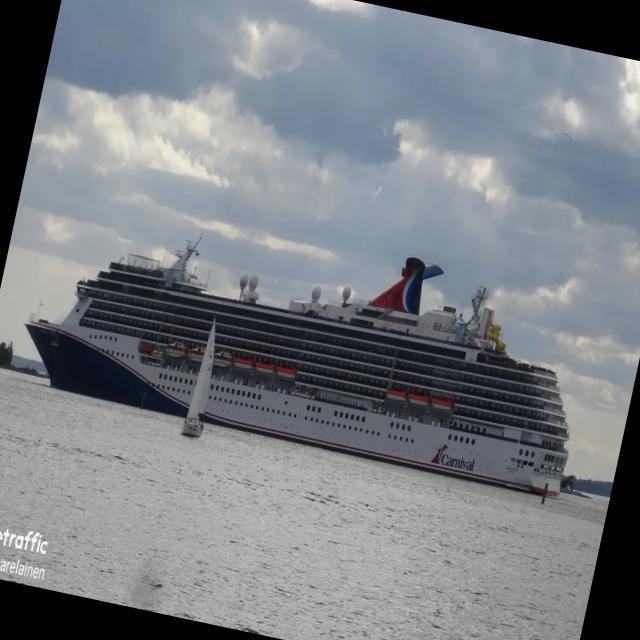Cruise: (25, 242, 569, 497)
